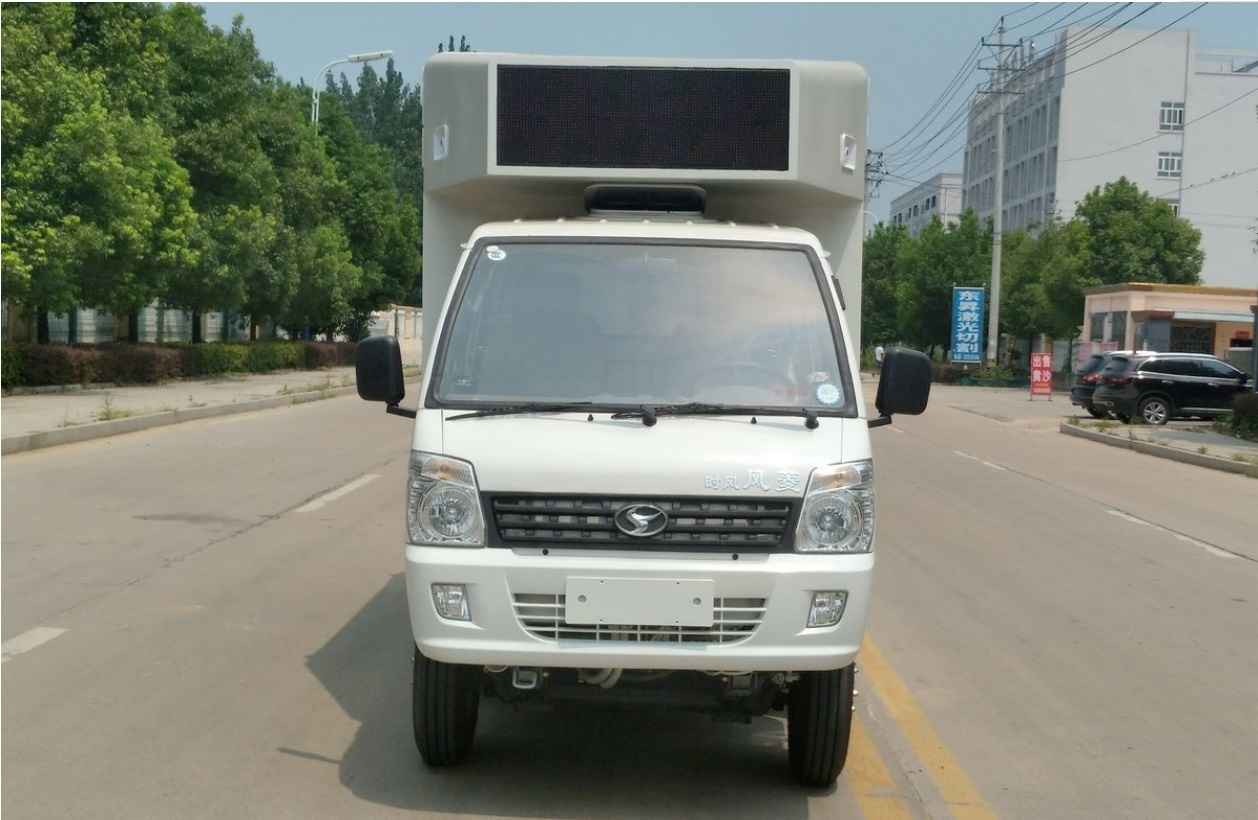truck: (366, 64, 907, 768)
